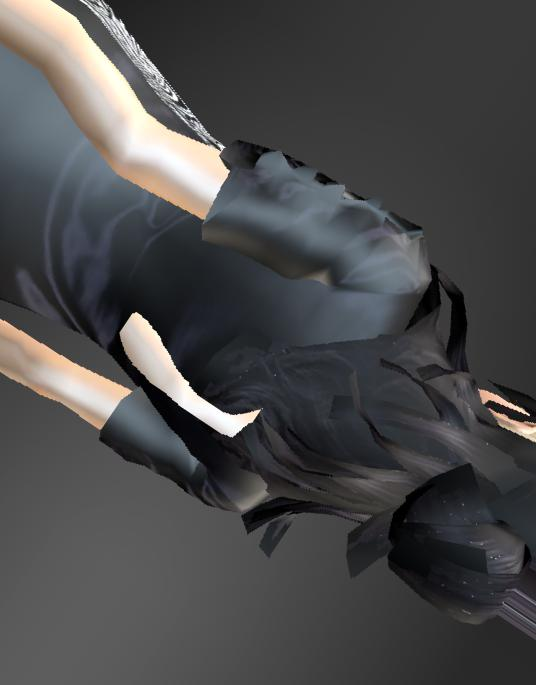clip: (108, 301, 181, 391)
